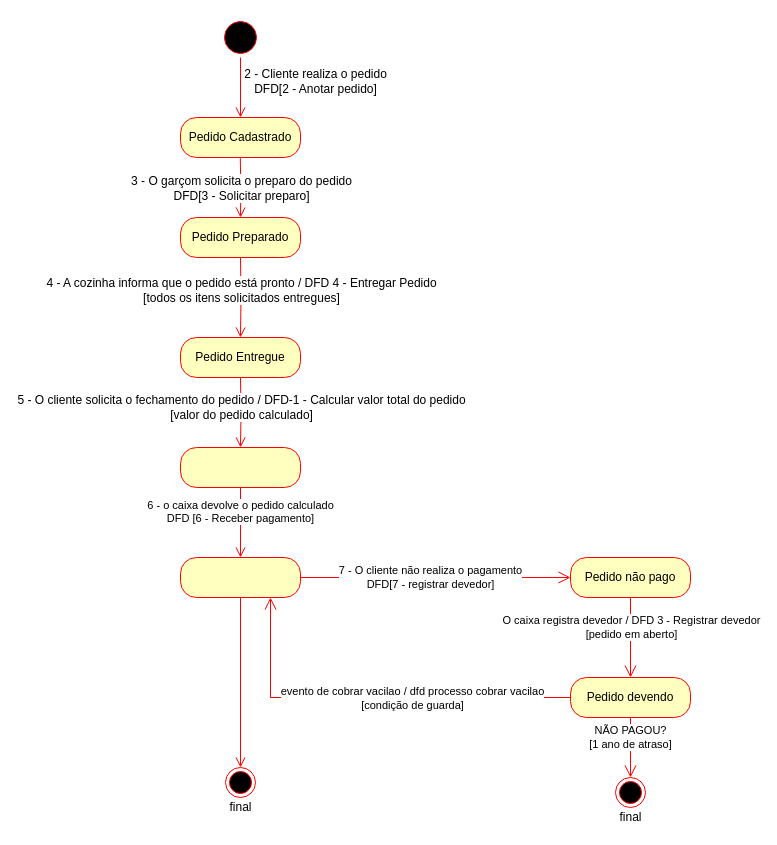
Some shapes in this 777 by 845 pixel diagram are drawn without their labels. The shapes that lost their labels are listed below. From the top down, each one's centre as x and y in pixels, then its label:
At [240,467]: "Pedido Calculado".
At [240,577]: "Pedido Pago".
